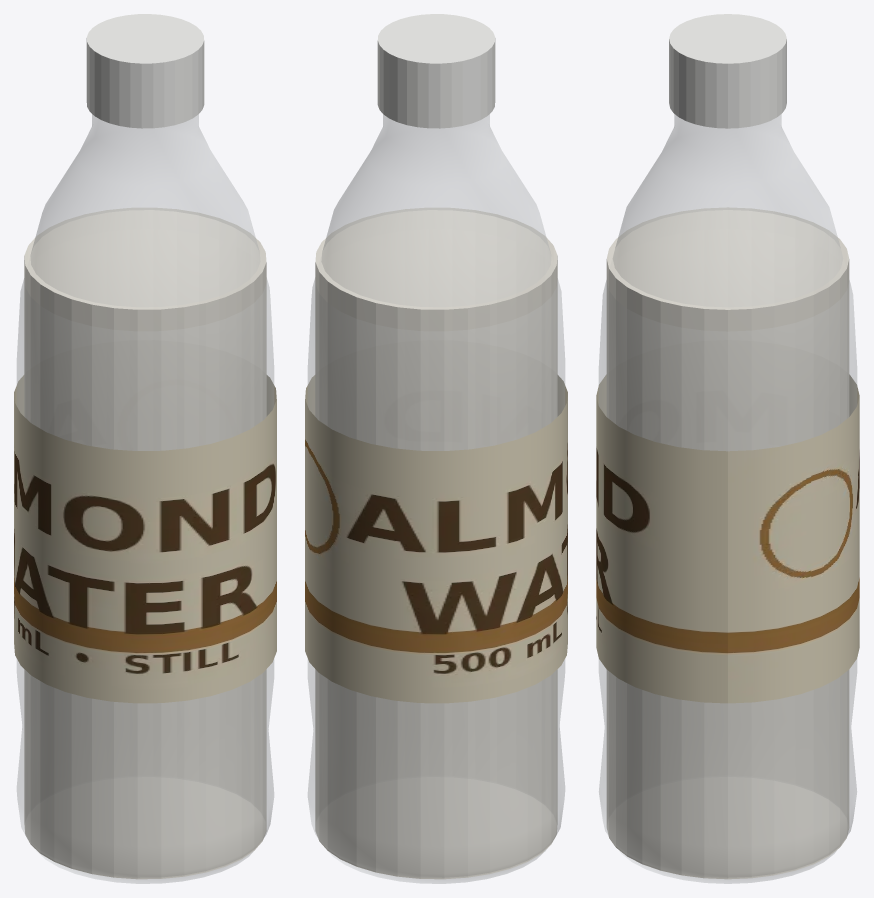
File: almond_water.glb
3 renders of one model, left to right at view 1: azimuth 30°, elevation 25°; view 2: azimuth 150°, elevation 25°; view 3: azimuth 270°, elevation 25°, orthographic.
Visible parts, largest first — view 1: AlmondWater; view 2: AlmondWater; view 3: AlmondWater.
Part boxes in pixels (<box>): AlmondWater: <box>14,14,276,883</box>; AlmondWater: <box>305,14,567,883</box>; AlmondWater: <box>596,14,859,883</box>.
Size of the model in its own units: 0.0662 by 0.221 by 0.0662.
Materials: 4 (1 with a texture image).
